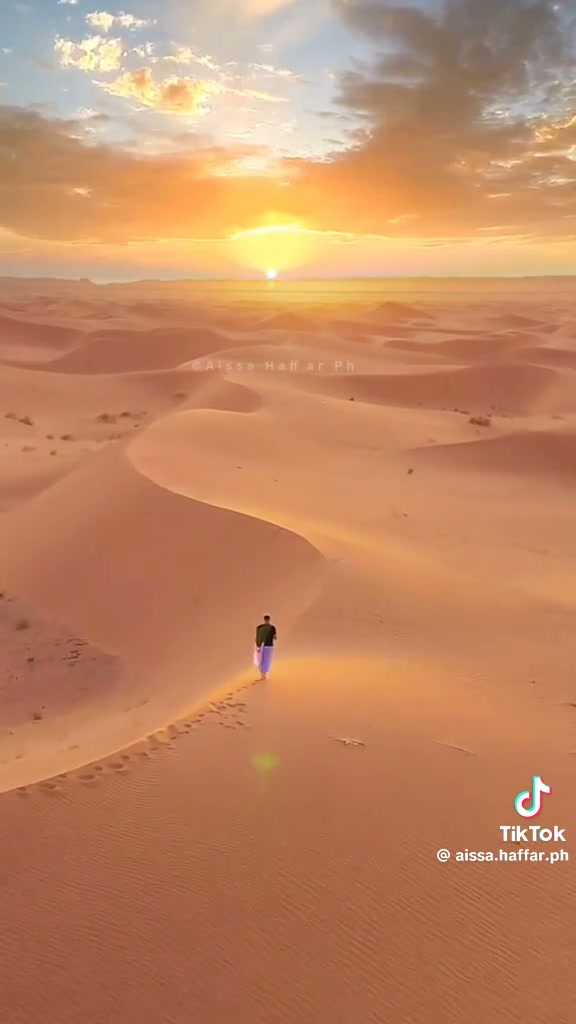human_footprint: (0, 685, 236, 813)
